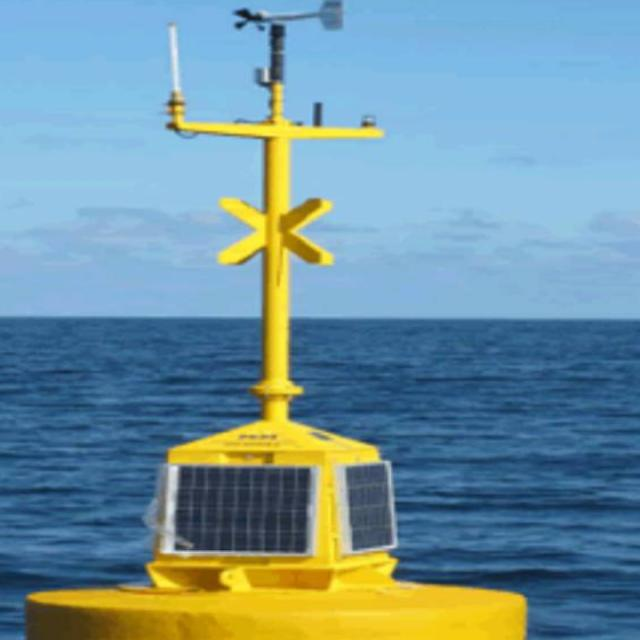buoy: (22, 0, 543, 640)
